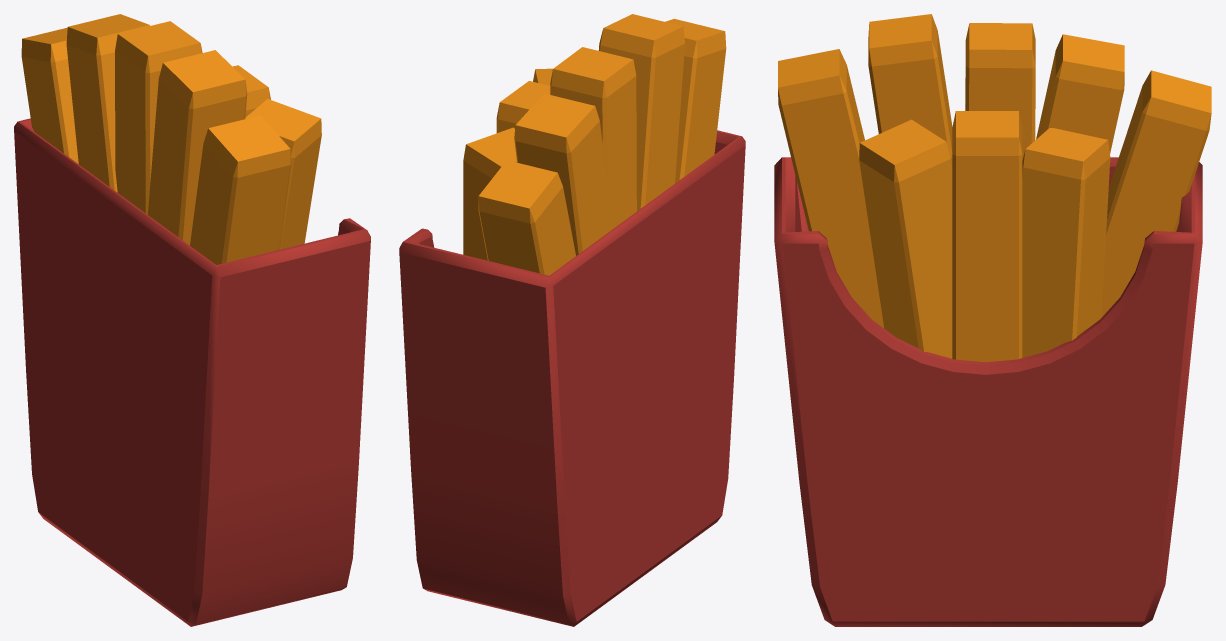
The model's file is frytki.gltf.
3 views of the same model, side by side, from view 1: azimuth 30°, elevation 25°; view 2: azimuth 150°, elevation 25°; view 3: azimuth 270°, elevation 25° (orthographic). The views are drawn at different scales.
Visible parts, largest first — view 1: Cube, Cube.004, Cube.005, Cube.006, Cube.007, Cube.008, Cube.003, Cube.001; view 2: Cube, Cube.005, Cube.007, Cube.008, Cube.006, Cube.004, Cube.002, Cube.001; view 3: Cube, Cube.001, Cube.003, Cube.002, Cube.004, Cube.008, Cube.005, Cube.007, Cube.006.
Boxes of the visible parts, x1=… form: Cube: x1=14, y1=118, x2=370, y2=626; Cube.004: x1=190, y1=115, x2=291, y2=264; Cube.005: x1=148, y1=50, x2=247, y2=245; Cube.006: x1=115, y1=21, x2=202, y2=214; Cube.007: x1=66, y1=14, x2=150, y2=192; Cube.008: x1=21, y1=27, x2=78, y2=163; Cube.003: x1=245, y1=99, x2=321, y2=249; Cube.001: x1=232, y1=65, x2=270, y2=117; Cube: x1=399, y1=130, x2=745, y2=626; Cube.005: x1=598, y1=14, x2=684, y2=211; Cube.007: x1=514, y1=93, x2=612, y2=255; Cube.008: x1=478, y1=160, x2=575, y2=275; Cube.006: x1=550, y1=47, x2=636, y2=228; Cube.004: x1=665, y1=18, x2=726, y2=183; Cube.002: x1=463, y1=127, x2=516, y2=260; Cube.001: x1=496, y1=81, x2=550, y2=132; Cube: x1=774, y1=157, x2=1202, y2=626; Cube.001: x1=952, y1=111, x2=1022, y2=362; Cube.003: x1=859, y1=119, x2=952, y2=358; Cube.002: x1=1022, y1=128, x2=1110, y2=357; Cube.004: x1=778, y1=49, x2=884, y2=328; Cube.008: x1=1101, y1=70, x2=1211, y2=317; Cube.005: x1=868, y1=14, x2=952, y2=158; Cube.007: x1=1036, y1=34, x2=1124, y2=153; Cube.006: x1=965, y1=23, x2=1035, y2=160.
Size of the model in its own units: 0.7912 by 2.42 by 1.76.
1 material, 1 textured.
